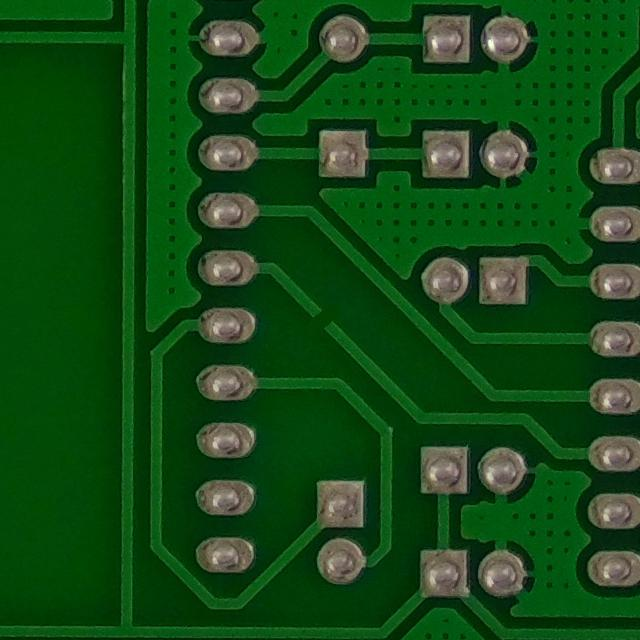open_circuit: (300, 298, 341, 342)
